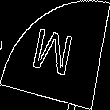M_S: (31, 24, 79, 86)
